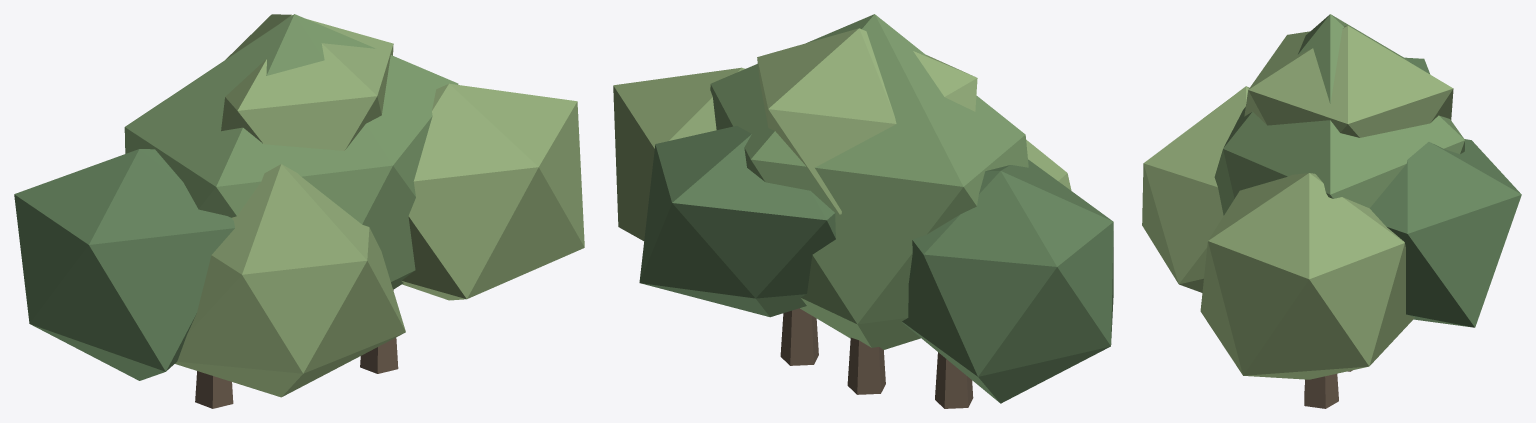
The model's file is hedge_cluster.glb.
3 views of the same model, side by side, from view 1: azimuth 30°, elevation 25°; view 2: azimuth 150°, elevation 25°; view 3: azimuth 270°, elevation 25° (orthographic). The views are drawn at different scales.
Parts seen in each view (by area): view 1: hedge_cluster; view 2: hedge_cluster; view 3: hedge_cluster.
Part boxes in pixels (box(x1,y1,x2,y2)): hedge_cluster: box(14, 14, 584, 408); hedge_cluster: box(613, 14, 1113, 408); hedge_cluster: box(1142, 14, 1521, 408).
Size of the model in its own units: 1.64 by 1.1 by 1.08.
